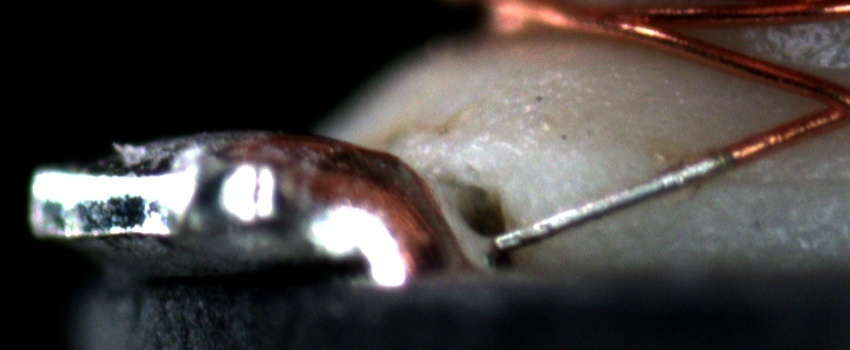CL: (797, 74, 849, 131)
DL: (721, 150, 850, 206)
TS: (495, 151, 732, 250)
